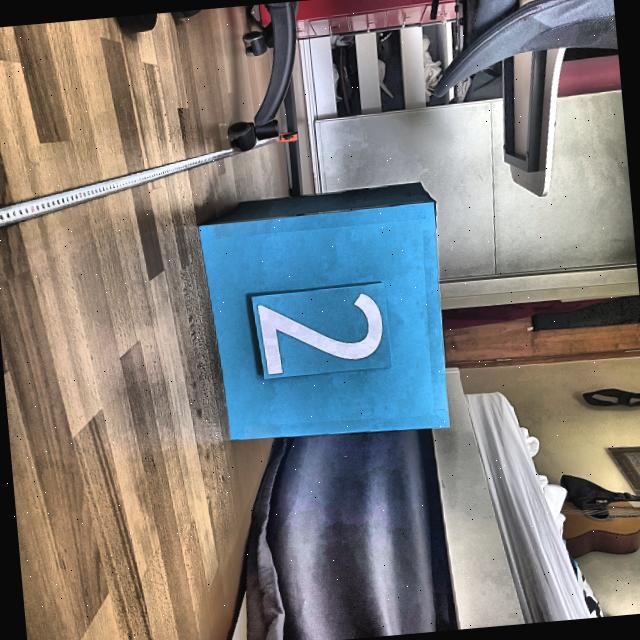blue box: (194, 178, 452, 450)
two: (255, 291, 391, 379)
